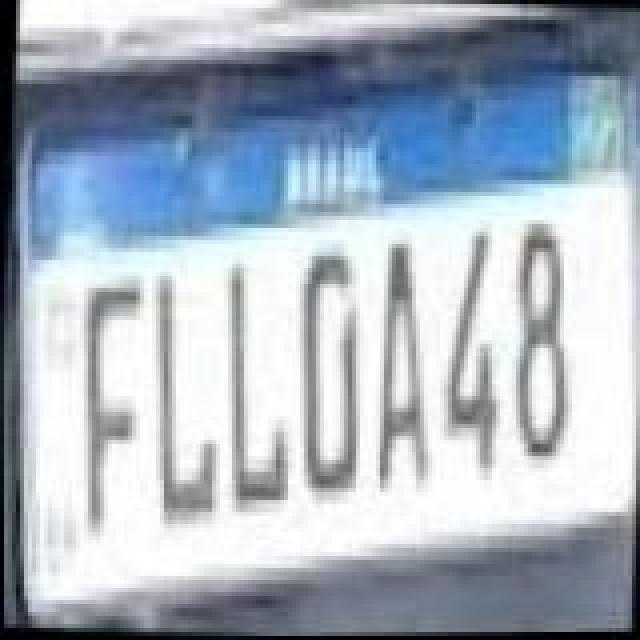4: (436, 224, 508, 480)
8: (502, 214, 574, 462)
A: (366, 234, 442, 498)
D: (290, 236, 366, 500)
F: (70, 274, 150, 538)
L: (142, 262, 226, 526), (216, 260, 296, 516)
